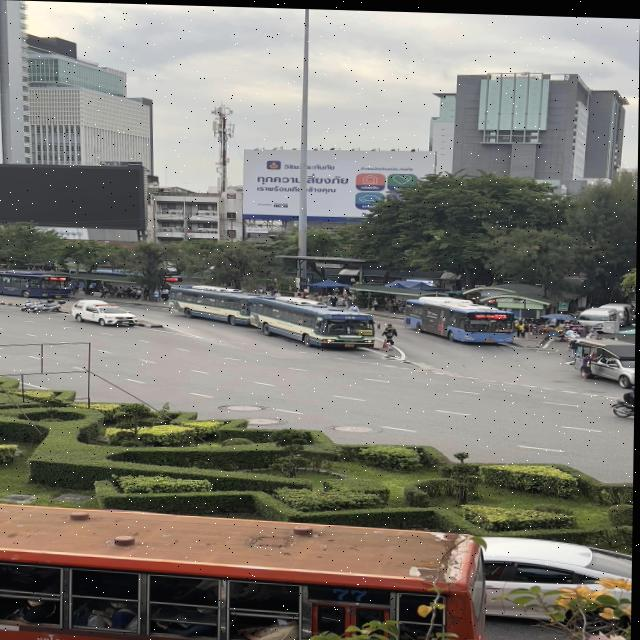BMTA-bus: (248, 290, 379, 351), (403, 291, 517, 341), (167, 281, 255, 325)
Bus-Line-Number: (344, 312, 359, 317), (495, 311, 508, 316)
Destination-Sign-Normal-Expressway: (359, 327, 374, 333), (499, 325, 512, 328)
TSB-Bus: (0, 267, 75, 300)
